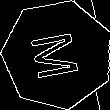M_E: (28, 27, 87, 82)
